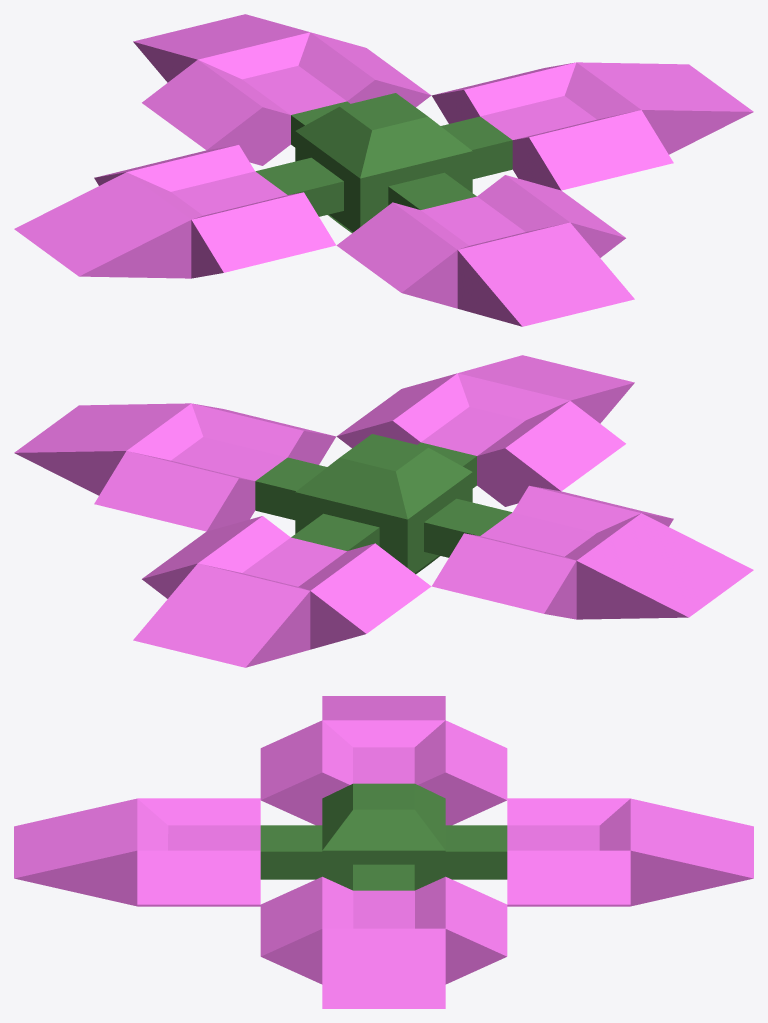
The model's file is SeaBunkerShot.dae.
3 views of the same model, one above another, from view 1: azimuth 30°, elevation 25°; view 2: azimuth 150°, elevation 25°; view 3: azimuth 270°, elevation 25° (orthographic). The views are drawn at different scales.
Visible parts, largest first — view 1: Cube; view 2: Cube; view 3: Cube.
Part boxes in pixels (<box>): Cube: <box>14,14,753,326</box>; Cube: <box>14,355,753,667</box>; Cube: <box>14,696,753,1008</box>.
Bounding box in the file's own units: 12 × 12 × 2.
